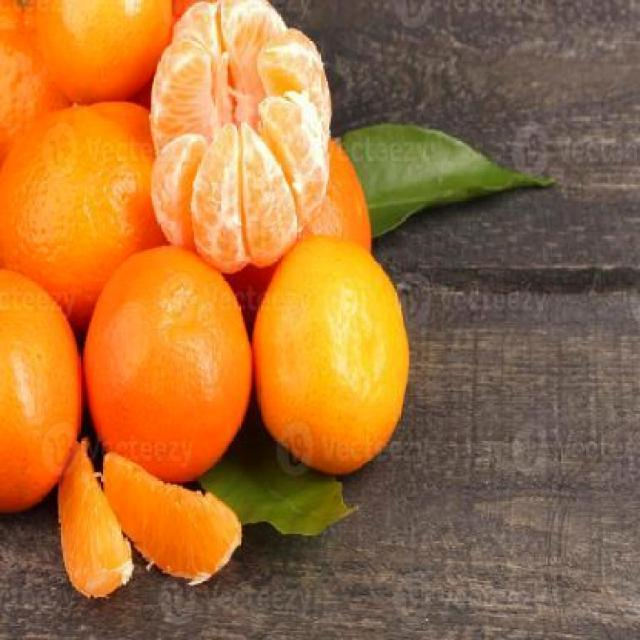Jeruk Sudah Matang: (0, 96, 186, 342), (81, 240, 254, 477), (254, 244, 412, 461), (207, 130, 376, 332), (0, 259, 82, 510), (34, 0, 178, 111)
